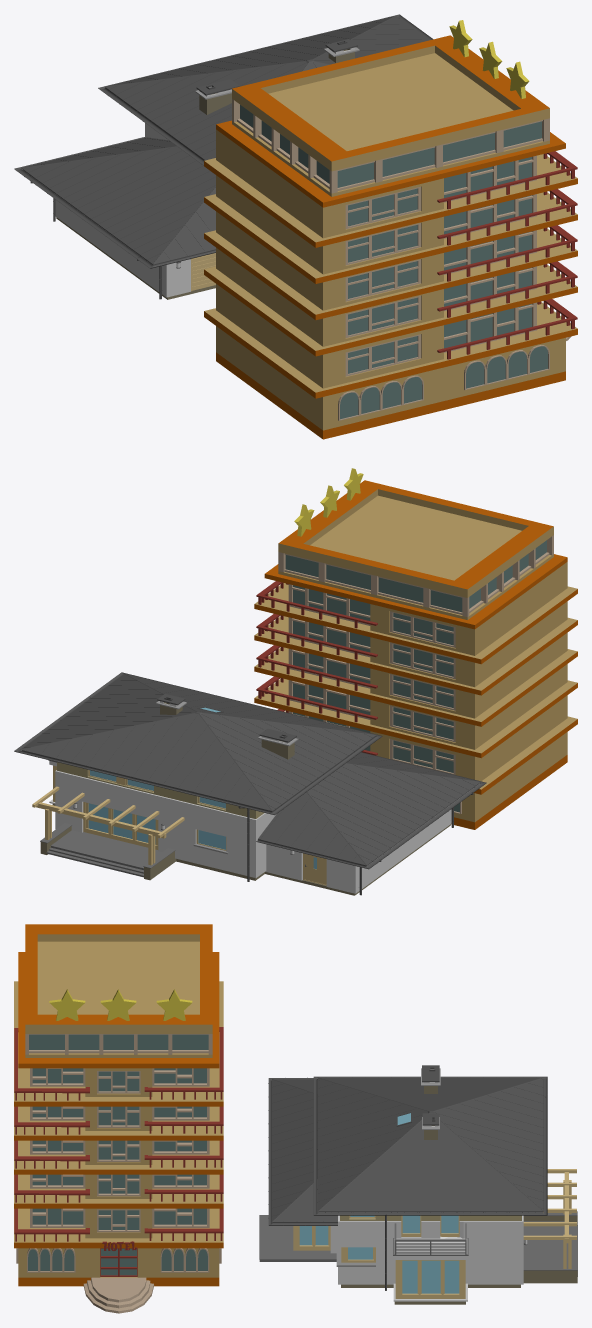
Rendered from apartment.glb.
3 renders of one model, top to bottom at view 1: azimuth 30°, elevation 25°; view 2: azimuth 150°, elevation 25°; view 3: azimuth 270°, elevation 25°, orthographic. The views are drawn at different scales.
Visible parts, largest first — view 1: Hotel(3star), Bambo_House; view 2: Hotel(3star), Bambo_House; view 3: Hotel(3star), Bambo_House.
Boxes of the visible parts, x1=… form: Hotel(3star): x1=204, y1=20, x2=577, y2=439; Bambo_House: x1=14, y1=14, x2=433, y2=299; Hotel(3star): x1=254, y1=468, x2=577, y2=829; Bambo_House: x1=14, y1=672, x2=486, y2=895; Hotel(3star): x1=14, y1=924, x2=223, y2=1313; Bambo_House: x1=259, y1=1065, x2=577, y2=1304.
Size of the model in its own units: 47.59 by 34.57 by 61.74.
